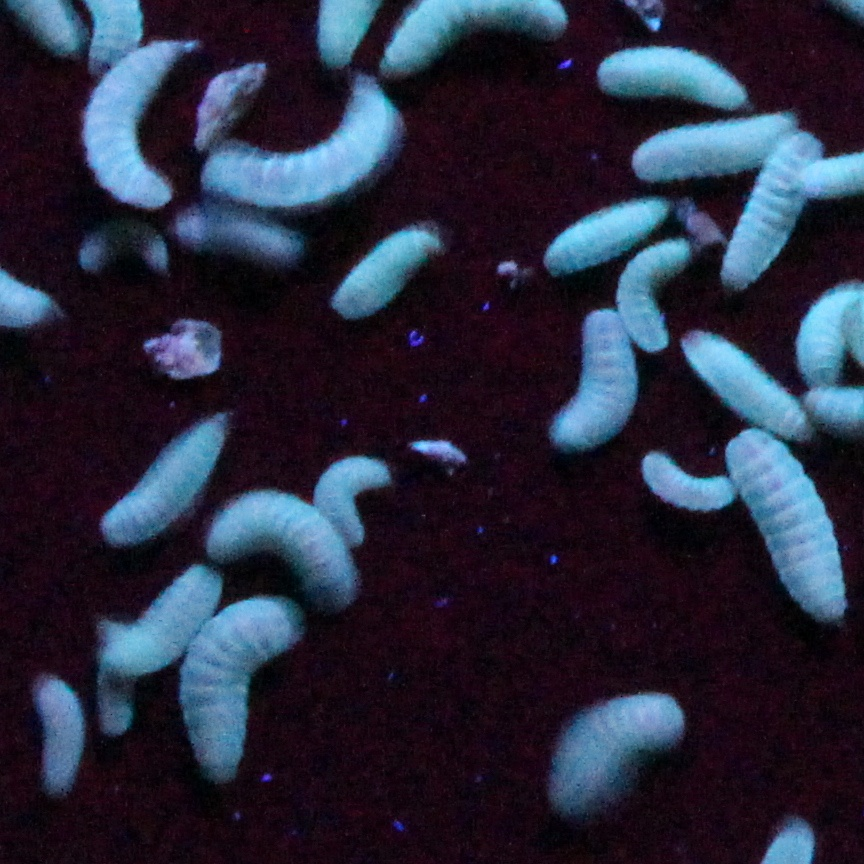larve: (743, 437, 861, 620), (192, 100, 389, 200), (183, 600, 292, 774), (81, 40, 181, 208), (106, 414, 232, 537), (541, 700, 692, 802), (215, 494, 355, 588), (546, 322, 643, 454), (723, 148, 815, 271), (326, 231, 452, 320), (686, 342, 821, 425), (629, 117, 798, 180), (535, 191, 661, 274), (592, 51, 764, 105), (643, 451, 738, 511), (318, 457, 381, 542), (41, 685, 81, 791)
